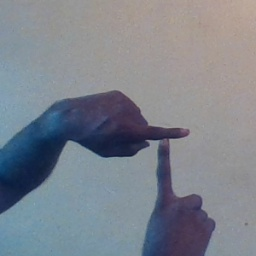T: (115, 100, 220, 215)
